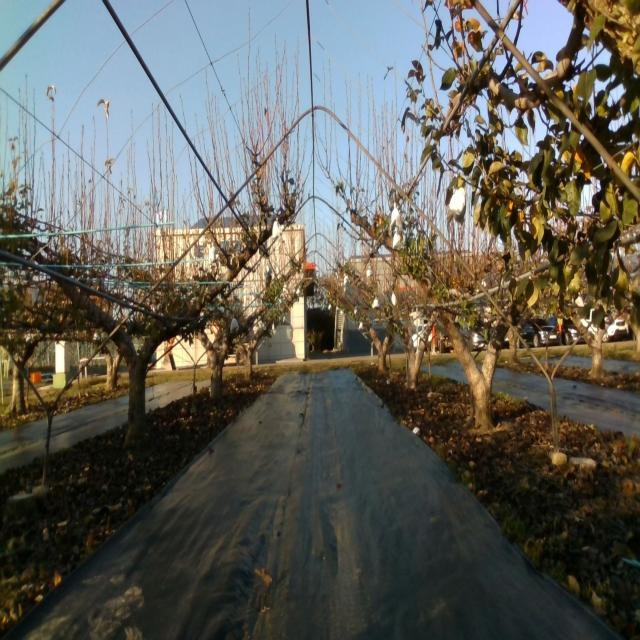pearbags: (449, 188, 466, 223), (206, 244, 218, 268), (391, 201, 402, 227), (392, 228, 404, 251), (272, 218, 283, 240)
